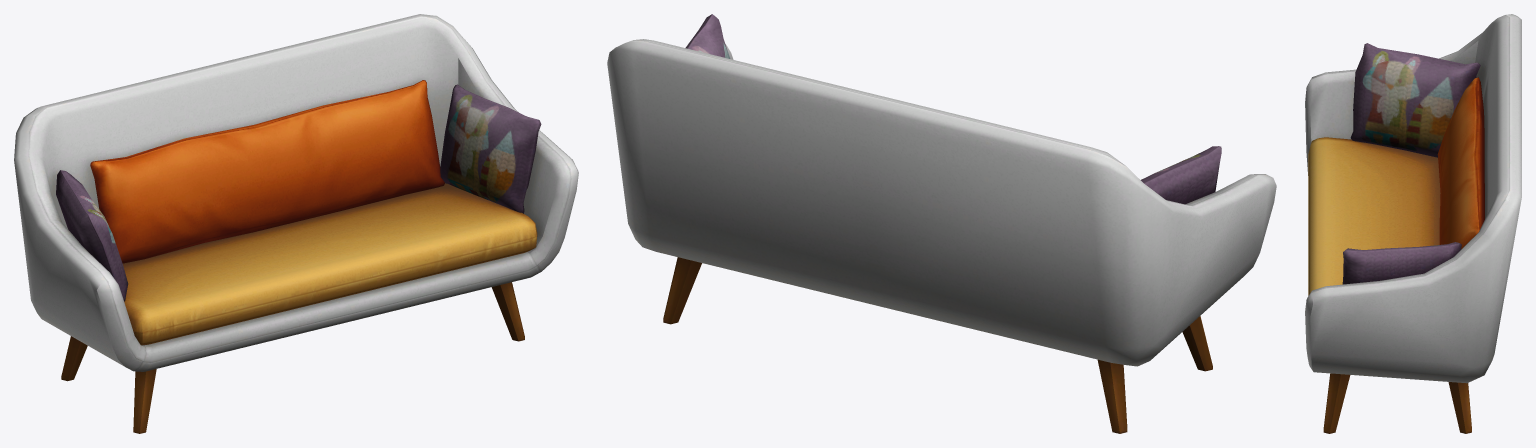
The model's file is lovely_loveseat.glb.
3 views of the same model, side by side, from view 1: azimuth 30°, elevation 25°; view 2: azimuth 150°, elevation 25°; view 3: azimuth 270°, elevation 25° (orthographic). The views are drawn at different scales.
Parts seen in each view (by area): view 1: TinyLiving_LovelyLoveseat; view 2: TinyLiving_LovelyLoveseat; view 3: TinyLiving_LovelyLoveseat.
Boxes of the visible parts, bbox=[...] form: TinyLiving_LovelyLoveseat: bbox=[14, 14, 578, 433]; TinyLiving_LovelyLoveseat: bbox=[607, 14, 1276, 433]; TinyLiving_LovelyLoveseat: bbox=[1305, 14, 1521, 433].
Bounding box in the file's own units: 1.83 × 0.9125 × 0.7484.
Materials: 1 (1 with a texture image).
